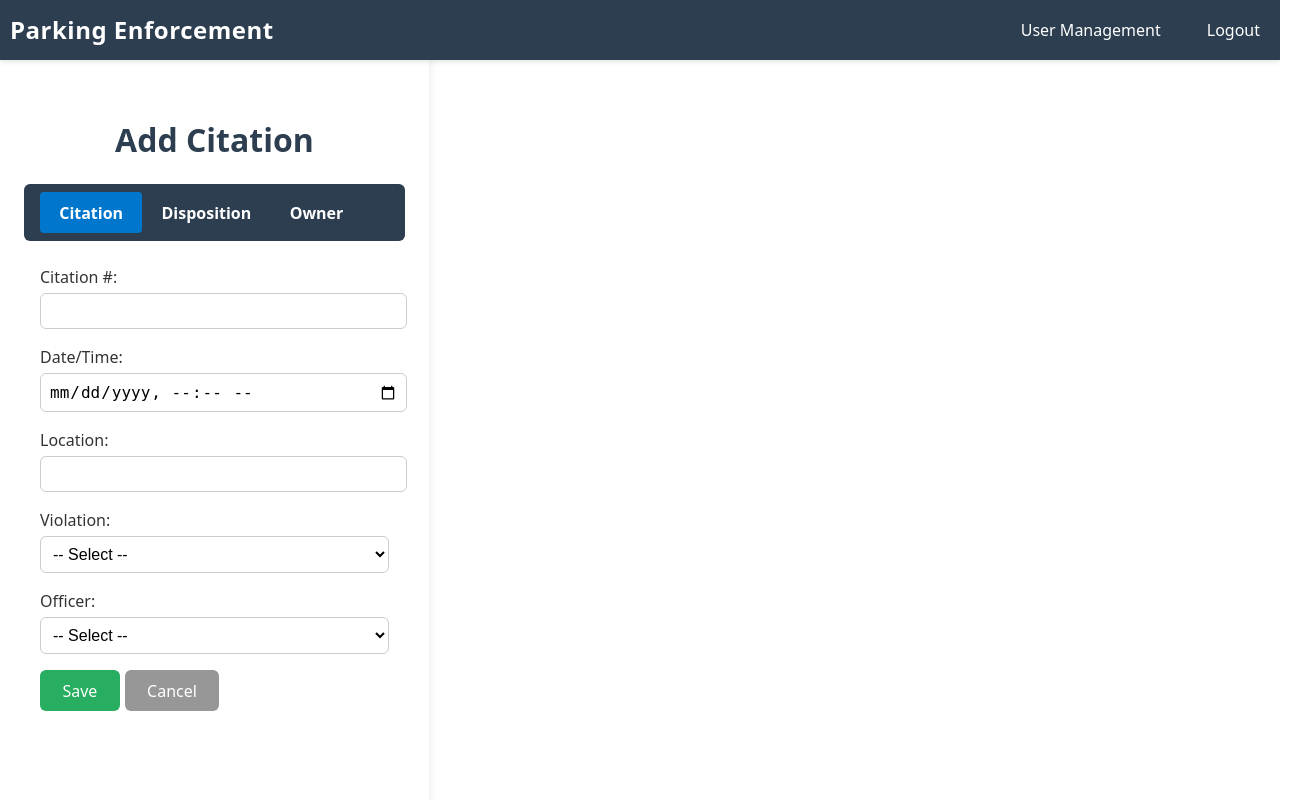
Test: AddEditCitations Component › renders Add Citation form and switches tabs
This screenshot has width=1292, height=800.
Expected: the heading "Add Citation" is shown, [115,118,314,161]
Expected: the field labelled "Citation #:" is shown, [40,293,407,329]
Click the button "Disposition".
click(206, 213)  # box [142,192,270,233]
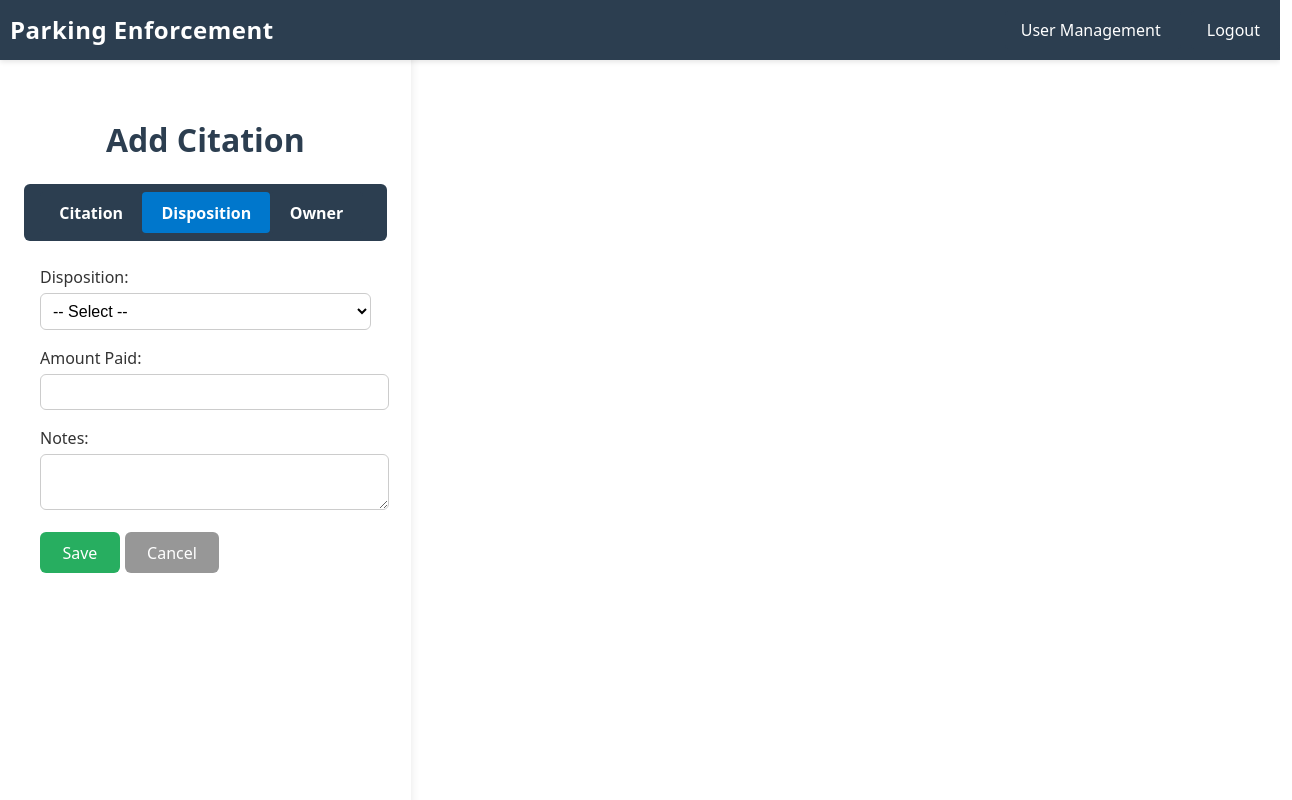
Expected: the field labelled "Amount Paid:" is shown, [40,374,389,410]
Click the button "Owner".
click(316, 213)  # box [270,192,362,233]
(page scrolled)
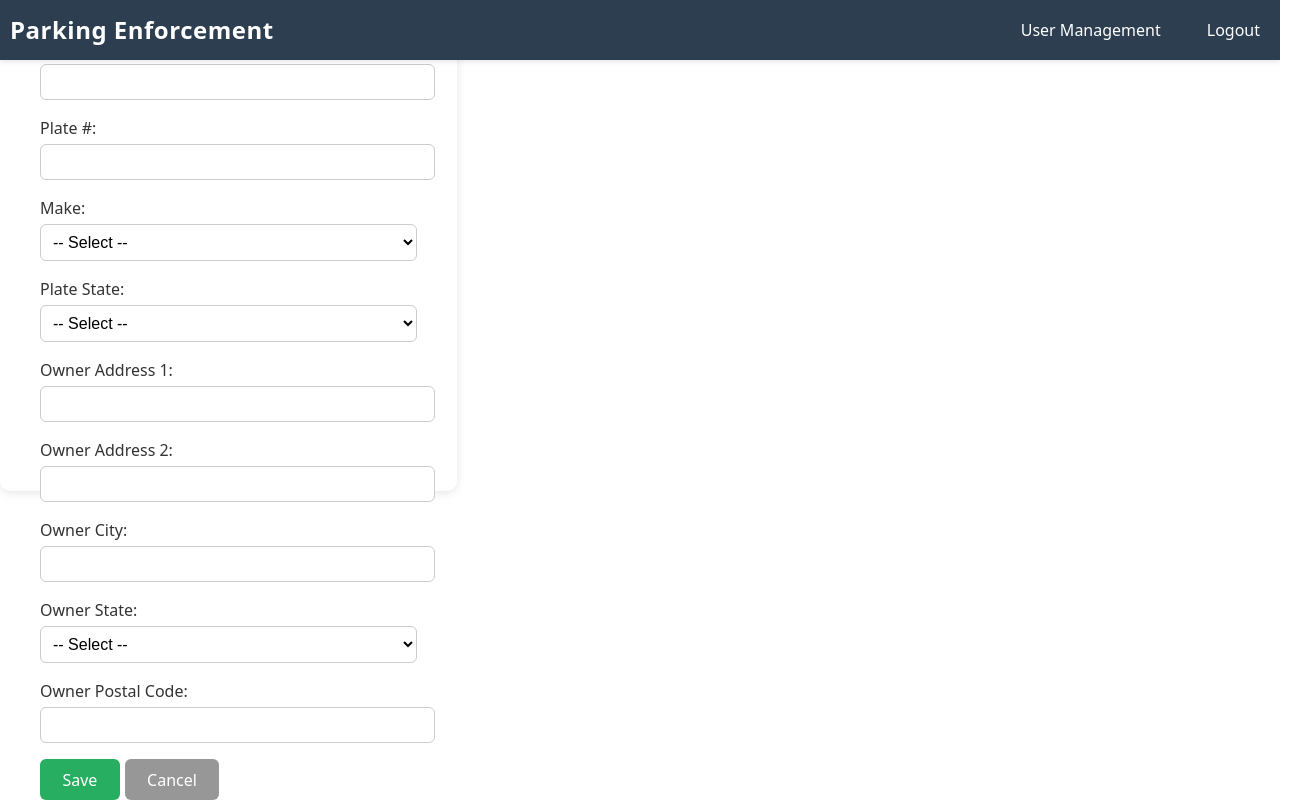
Expected: the field labelled "Owner Postal Code:" is shown, [40,707,435,743]
